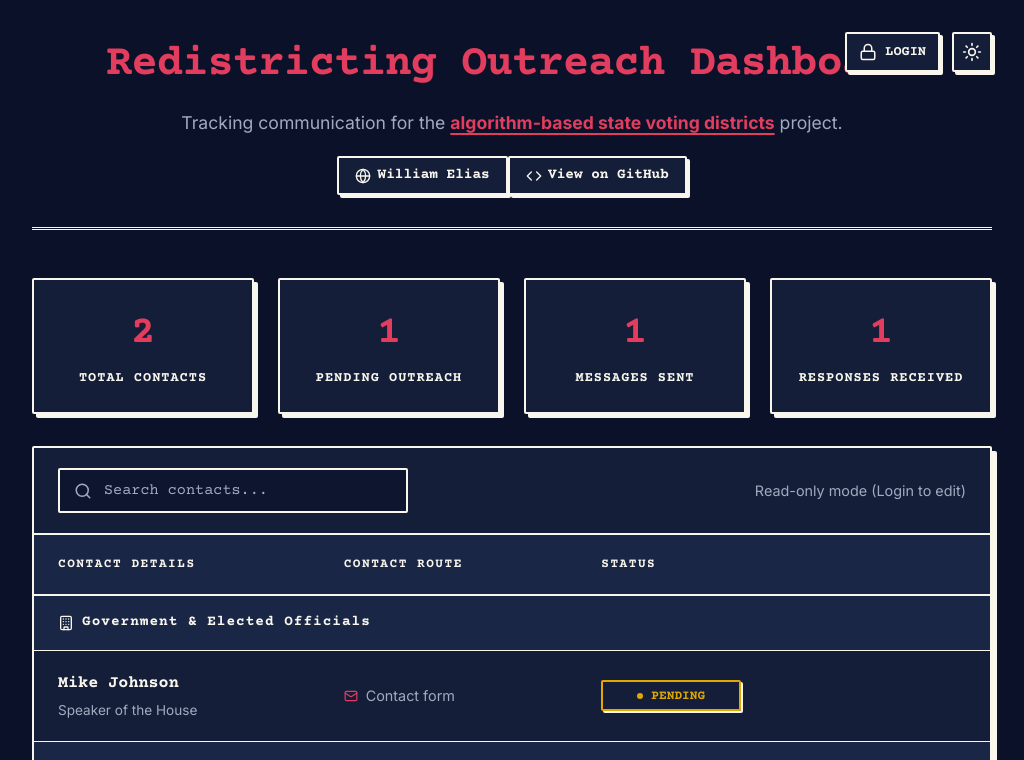
Test: Redistricting Outreach Dashboard › opens Add Contact modal when Admin
// Login flow
Click the button "Login": (893, 52) x1=845 y1=32 x2=940 y2=72
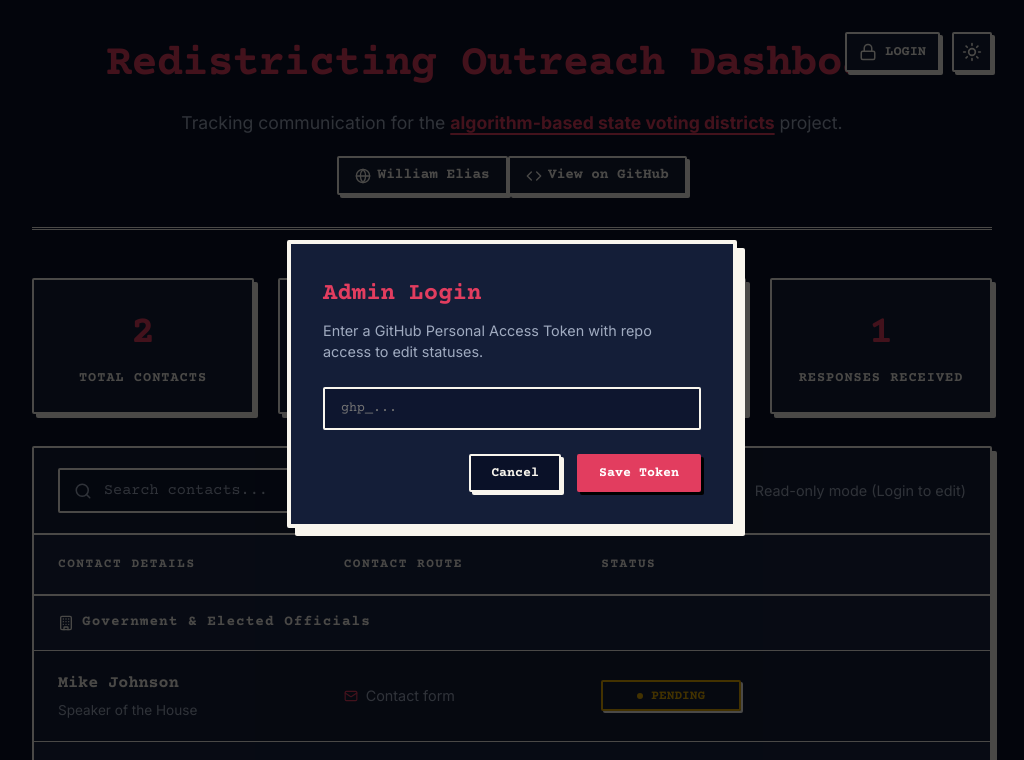
In the password field with placeholder "ghp_...": (512, 408) x1=323 y1=387 x2=701 y2=430, type "test-token"
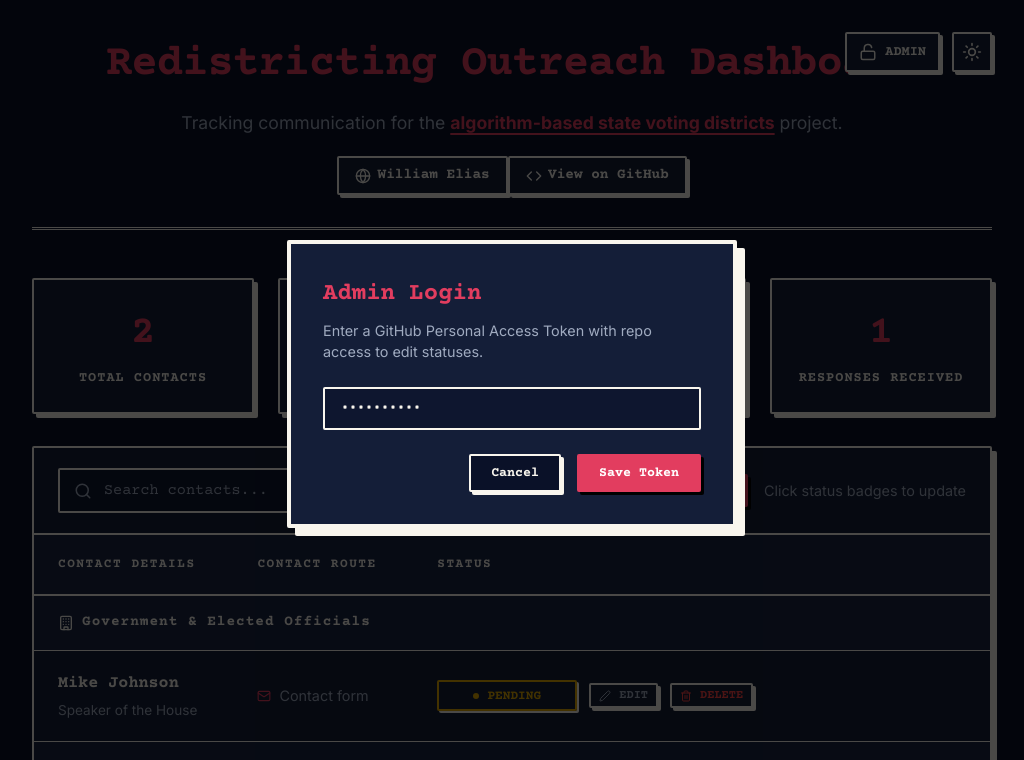
Click the button "Save Token": (639, 473) x1=577 y1=454 x2=701 y2=492
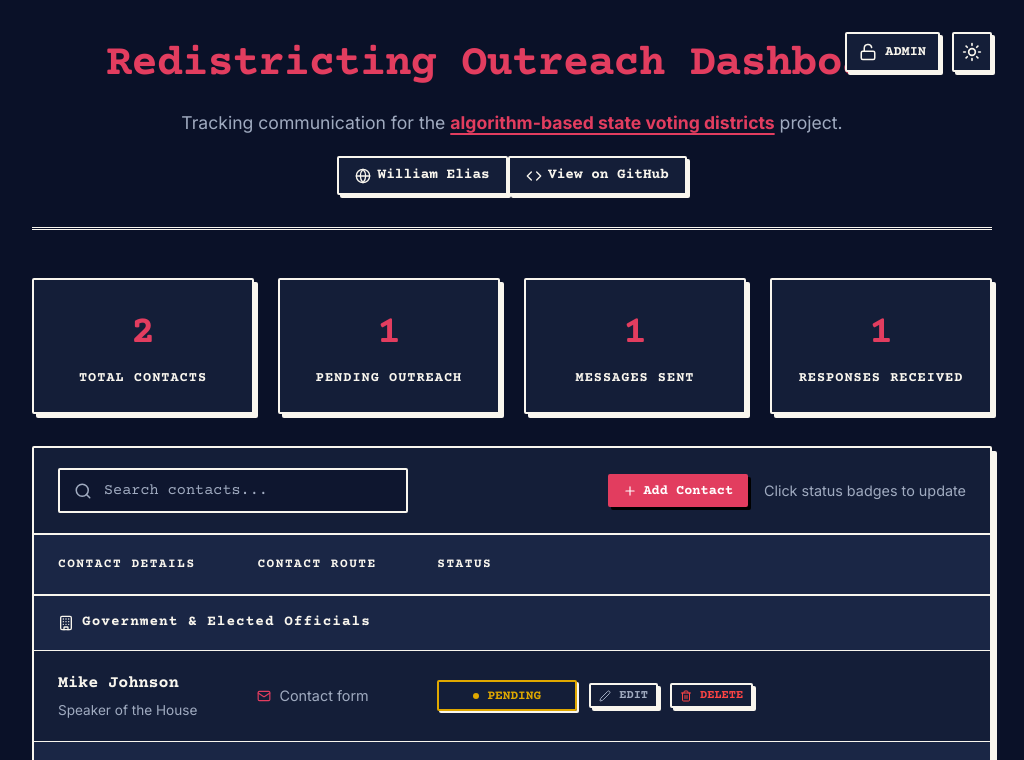
Expected: the button "Add Contact" is shown
Click the button "Add Contact": (678, 491) x1=608 y1=474 x2=748 y2=507
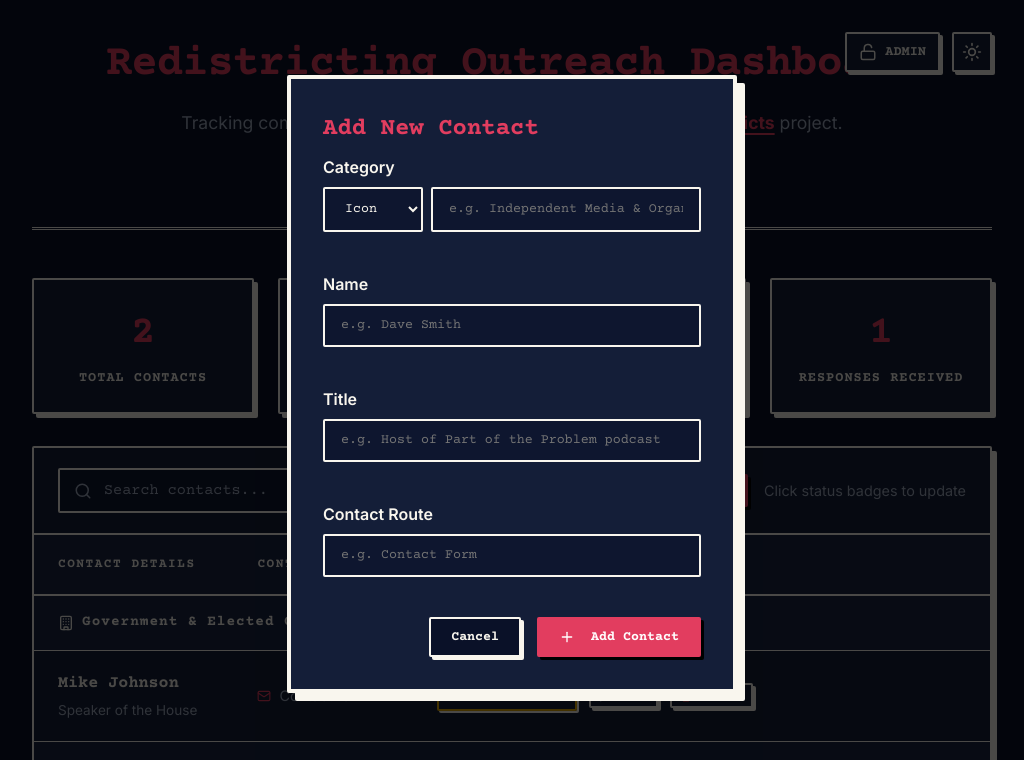
Expected: the heading "Add New Contact" is shown, x1=323 y1=115 x2=539 y2=142
Expected: the field with placeholder "e.g. Independent Media & Organizations" is shown, x1=431 y1=187 x2=701 y2=232
